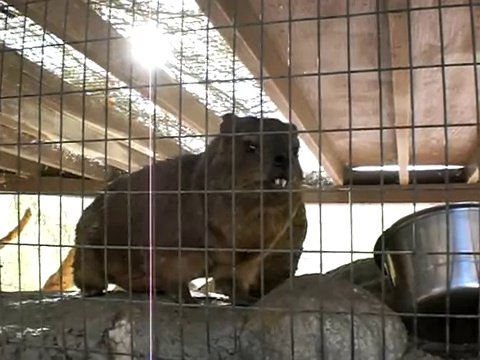Rock Hyrex: (74, 113, 303, 304)
